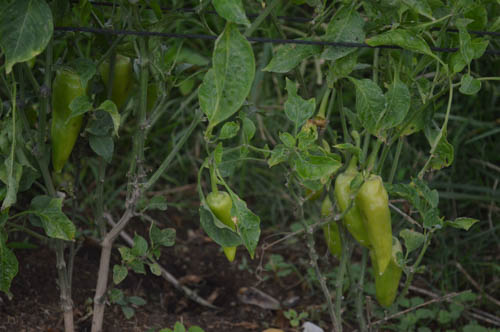ChiliPepper: (47, 68, 88, 169), (361, 175, 392, 274), (334, 176, 371, 244), (207, 195, 240, 260), (367, 244, 400, 303), (103, 59, 136, 104), (316, 205, 339, 258)
